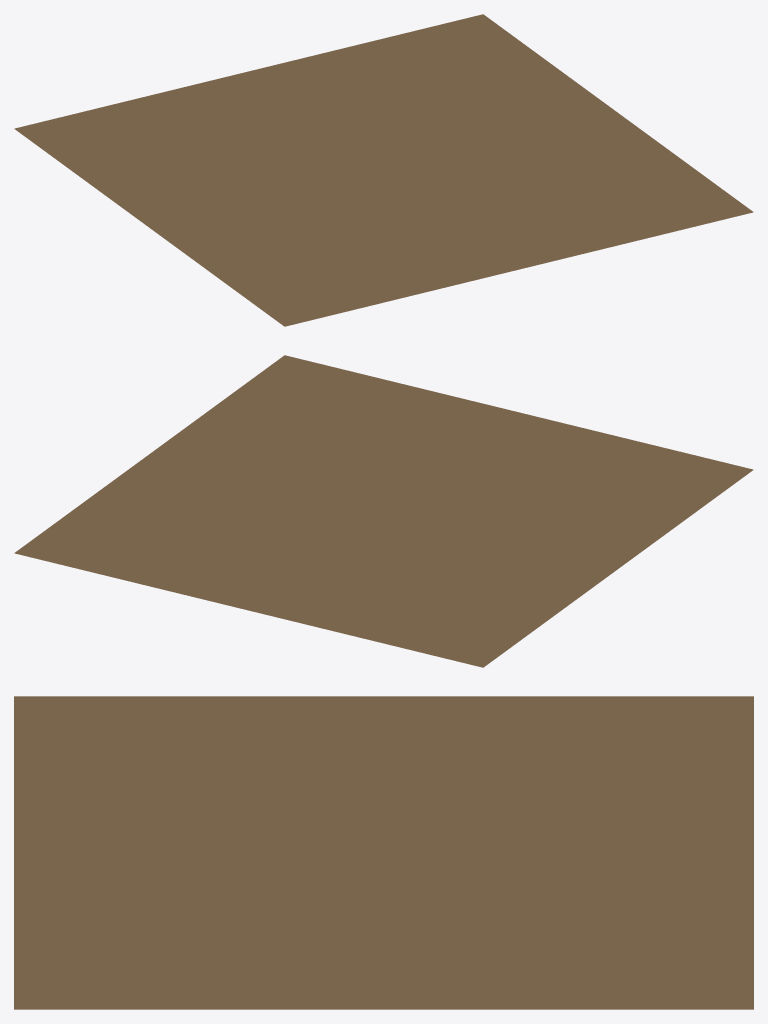
Rendered from SM_Env_Tile_Dirt_01.glb.
3 views of the same model, one above another, from view 1: azimuth 30°, elevation 25°; view 2: azimuth 150°, elevation 25°; view 3: azimuth 270°, elevation 25° (orthographic). The views are drawn at different scales.
Visible parts, largest first — view 1: SM_Env_Tile_Dirt_01; view 2: SM_Env_Tile_Dirt_01; view 3: SM_Env_Tile_Dirt_01.
Part boxes in pixels (left/top/right/bottom): SM_Env_Tile_Dirt_01: left=14, top=14, right=753, bottom=326; SM_Env_Tile_Dirt_01: left=14, top=355, right=753, bottom=667; SM_Env_Tile_Dirt_01: left=14, top=696, right=753, bottom=1009.
Size of the model in its own units: 3 by 2.26e-07 by 3.
Materials: 1 (1 with a texture image).
